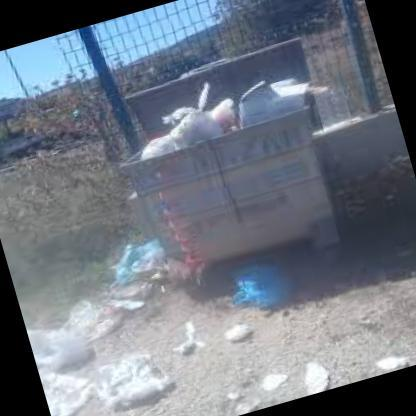Garbage: (145, 66, 318, 152), (221, 252, 318, 336), (101, 347, 188, 415), (48, 282, 140, 345), (158, 76, 232, 152), (244, 352, 336, 410), (31, 324, 115, 380), (236, 68, 315, 126), (38, 360, 95, 415), (112, 230, 166, 284), (152, 318, 204, 364), (214, 325, 256, 356), (138, 130, 178, 160), (374, 349, 415, 374)
